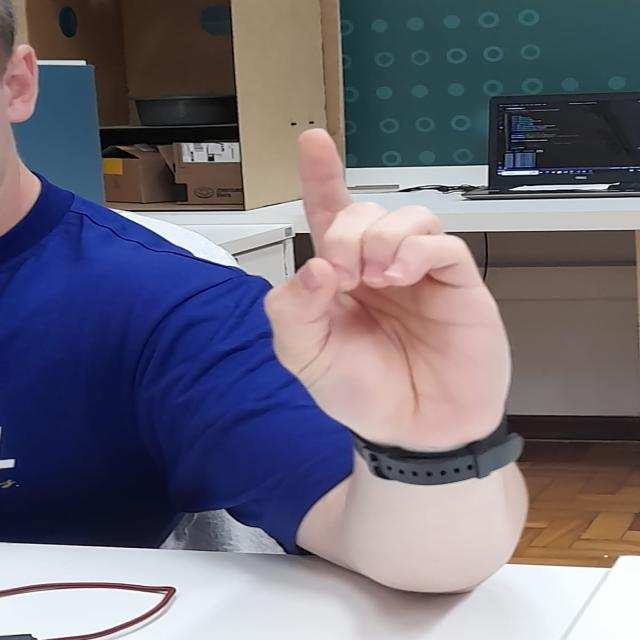D2: (264, 121, 520, 448)
